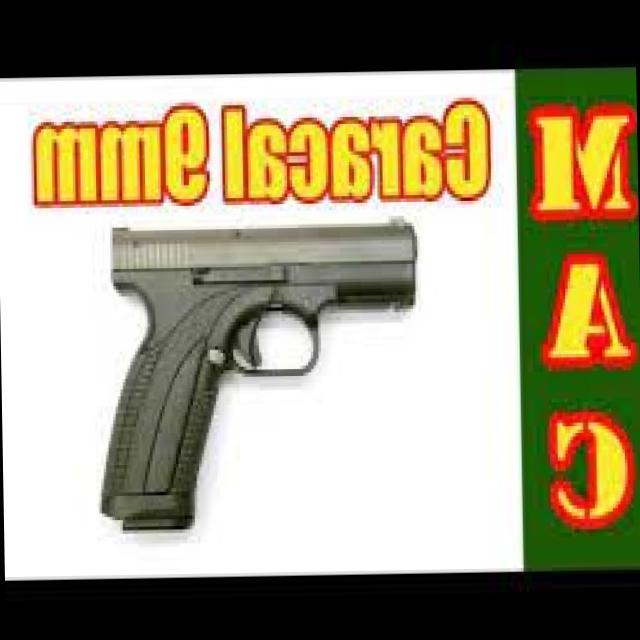Gun: (81, 208, 438, 553)
